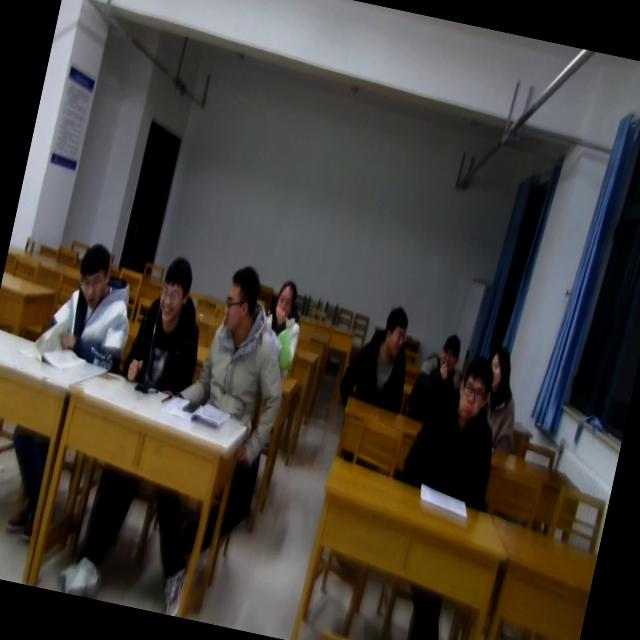down: (69, 237, 118, 314)
lookup: (448, 348, 498, 430), (150, 252, 197, 332), (267, 269, 302, 330), (481, 342, 518, 398), (434, 324, 466, 378)
sit: (175, 256, 310, 429), (392, 344, 516, 508), (115, 250, 216, 399), (38, 235, 146, 373), (335, 296, 423, 414), (402, 324, 469, 428), (252, 274, 312, 384), (469, 346, 532, 450)
